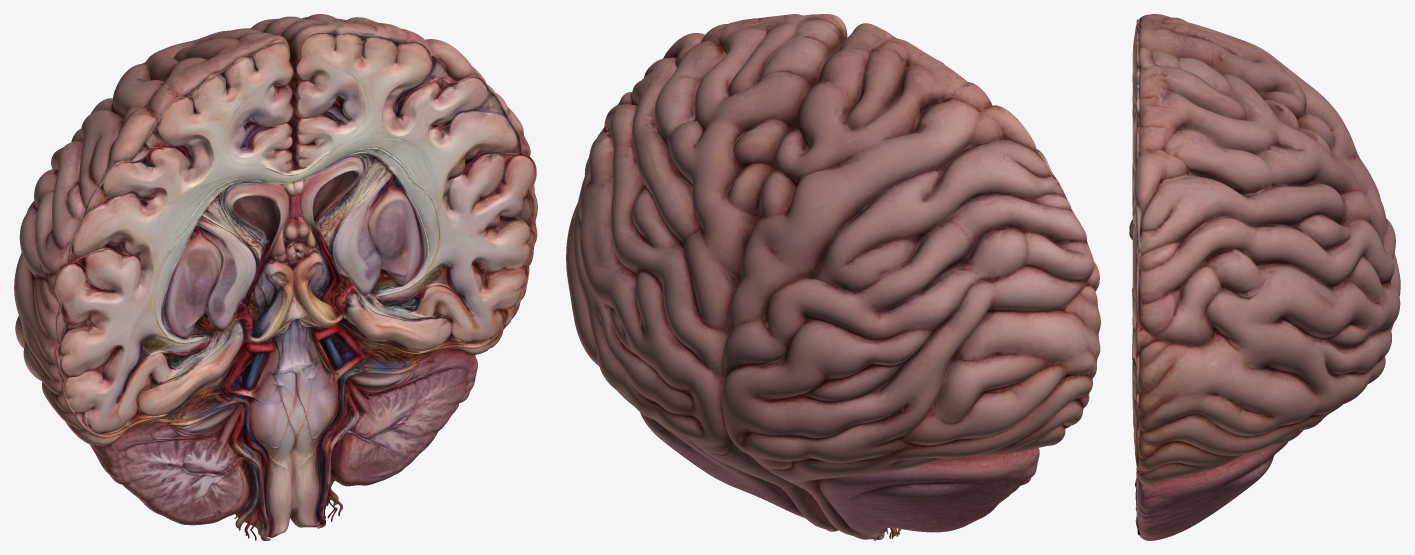
The model's file is brain_coronal.glb.
3 views of the same model, side by side, from view 1: azimuth 30°, elevation 25°; view 2: azimuth 150°, elevation 25°; view 3: azimuth 270°, elevation 25° (orthographic). The views are drawn at different scales.
Parts seen in each view (by area): view 1: brain_coronal; view 2: brain_coronal; view 3: brain_coronal.
Boxes of the visible parts, left/top/right/bottom form: brain_coronal: left=14, top=14, right=537, bottom=540; brain_coronal: left=566, top=14, right=1100, bottom=540; brain_coronal: left=1129, top=14, right=1400, bottom=540.
Bounding box in the file's own units: 1.09 × 1.05 × 0.5373.
Materials: 1 (1 with a texture image).
